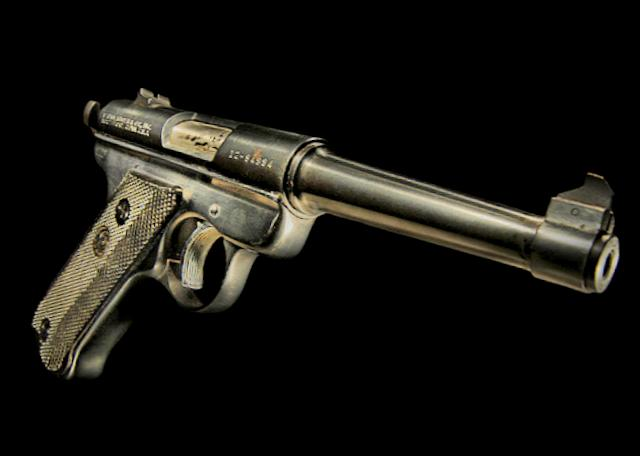pistol: (19, 77, 640, 442)
